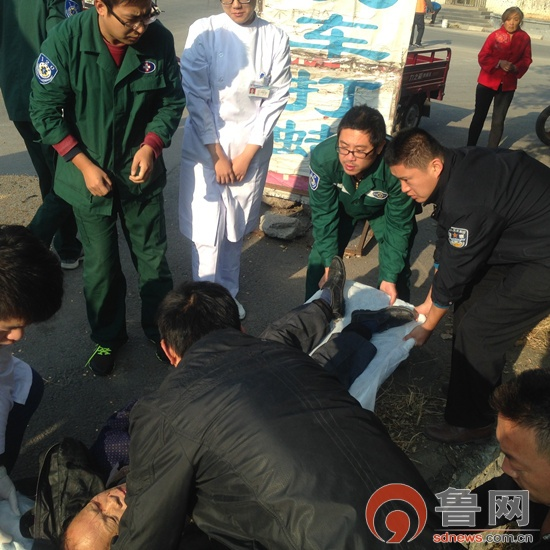falling: (278, 278, 449, 436)
